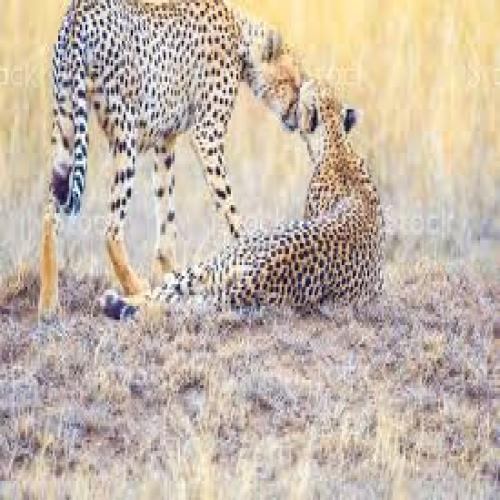cheetah-endangered: (35, 0, 303, 326), (100, 77, 387, 331)
